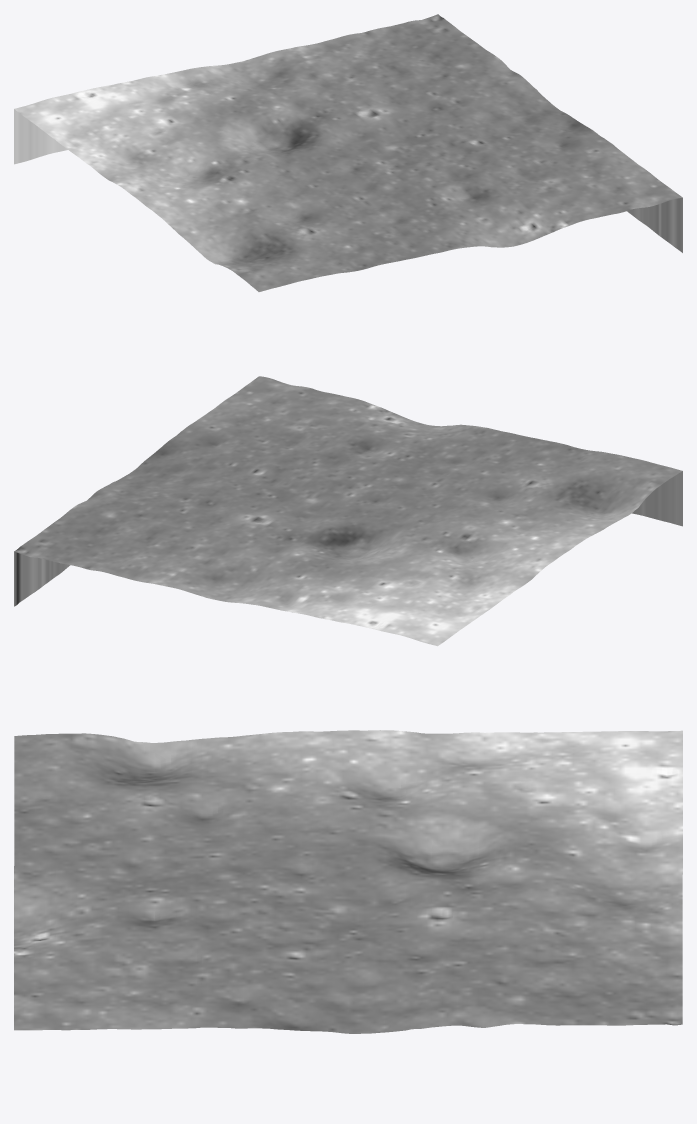
3 views of the same model, one above another, from view 1: azimuth 30°, elevation 25°; view 2: azimuth 150°, elevation 25°; view 3: azimuth 270°, elevation 25° (orthographic). The views are drawn at different scales.
Bounding box in the file's own units: 639 × 112 × 639.
Materials: 1 (1 with a texture image).
